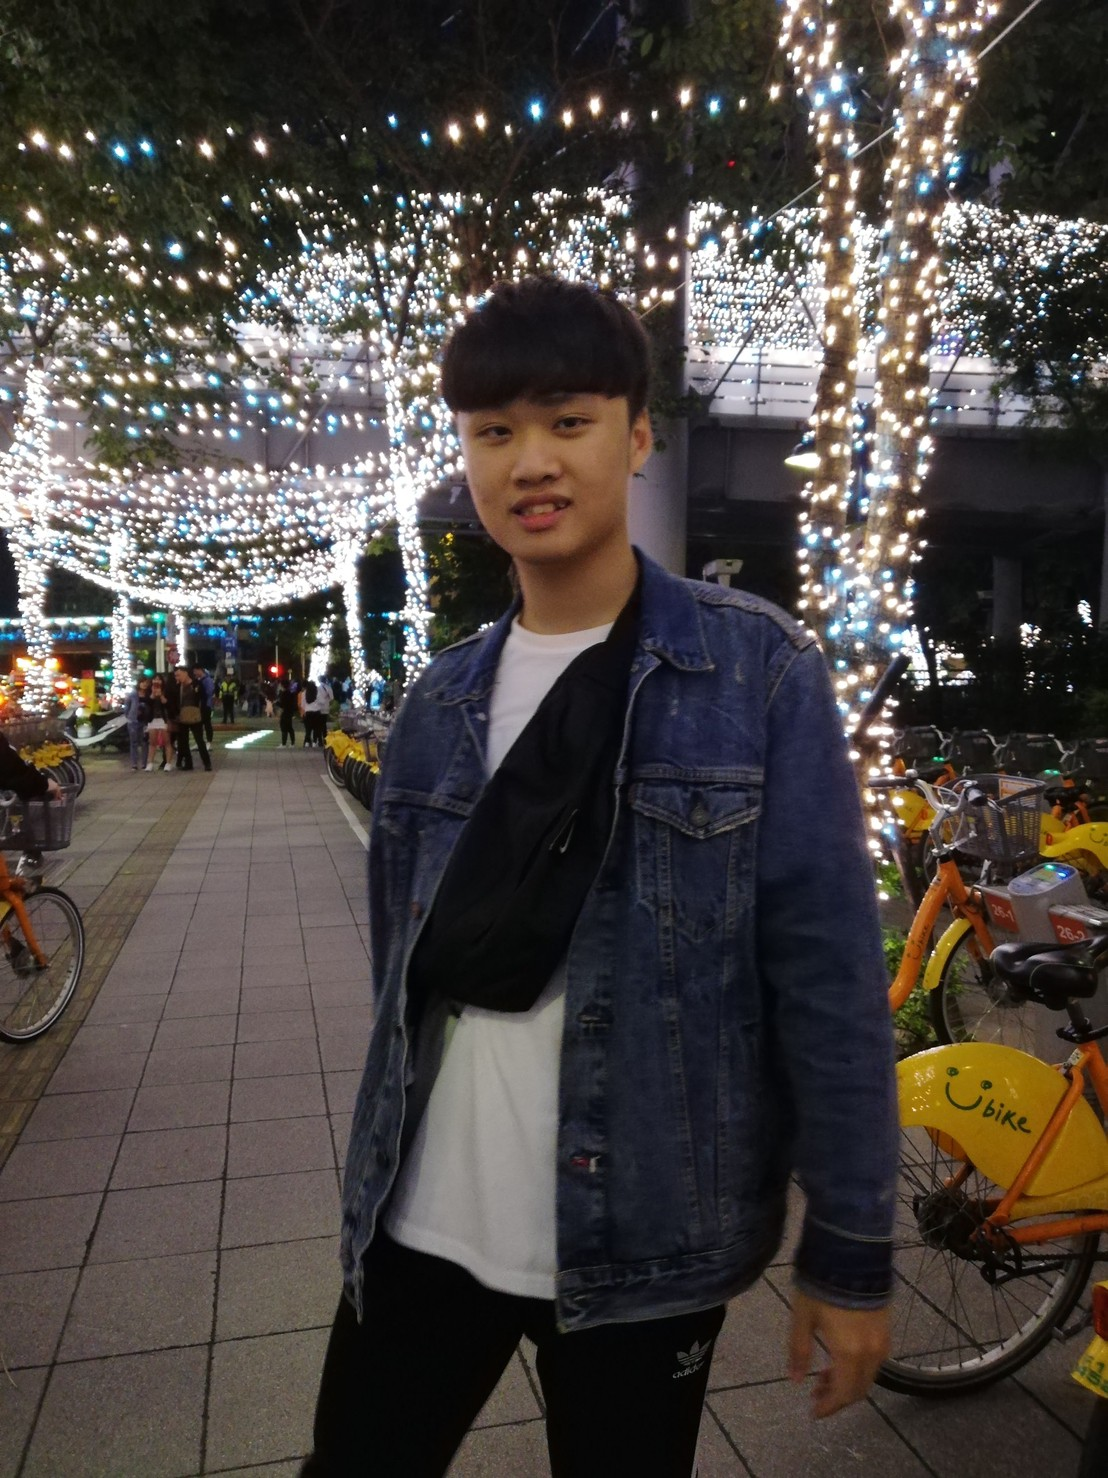people: (395, 276, 707, 1478)
